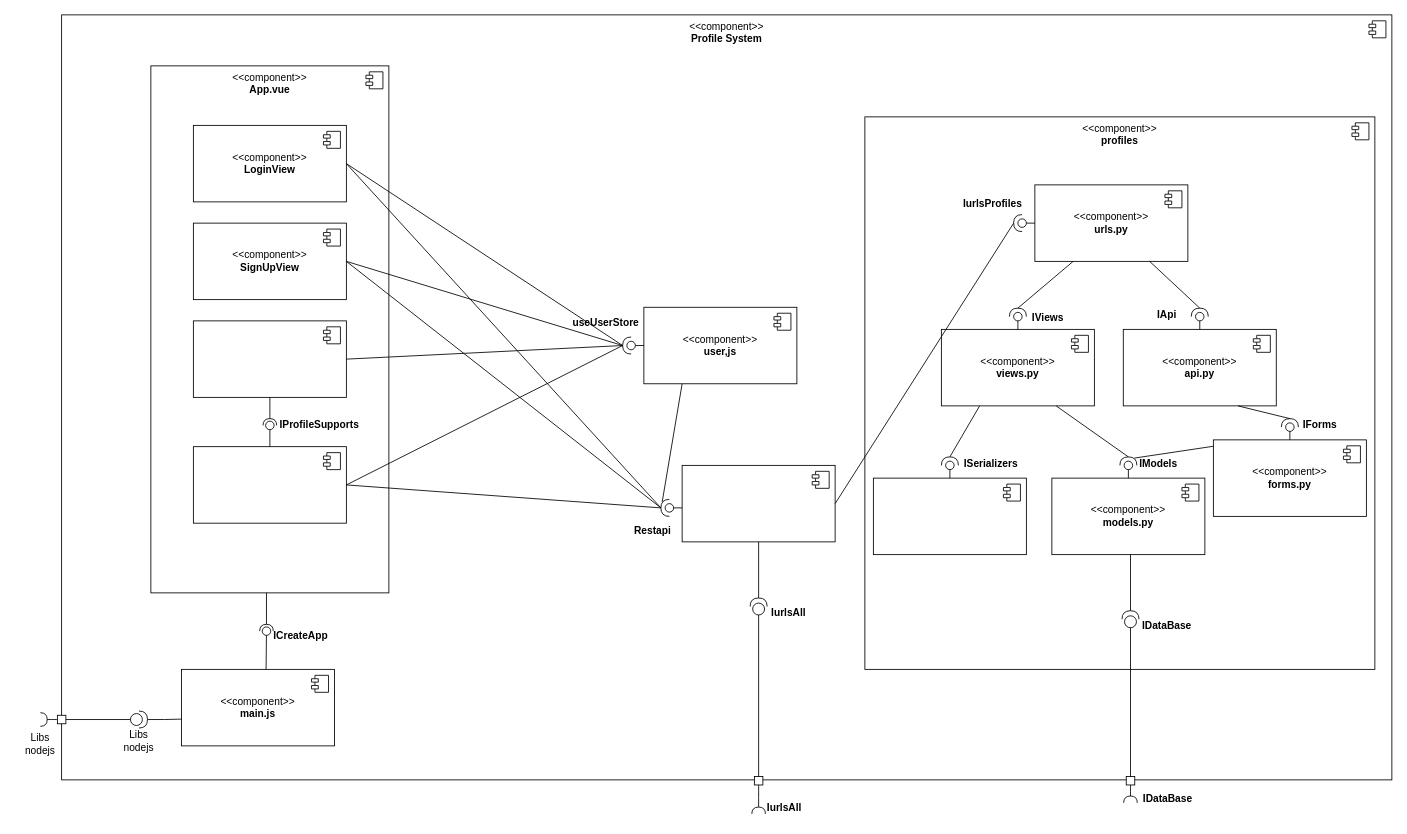
The diagram is 1407 pixels wide and 834 high, and some of its shapes have lost their labels. Each missing label, with the centre of its shape:
<<component>> main urls.py: [758,503]
<<component>> ProfileSupportView: [269,484]
<<component>> ProfileView: [269,358]
<<component>> serializers.py: [949,516]
